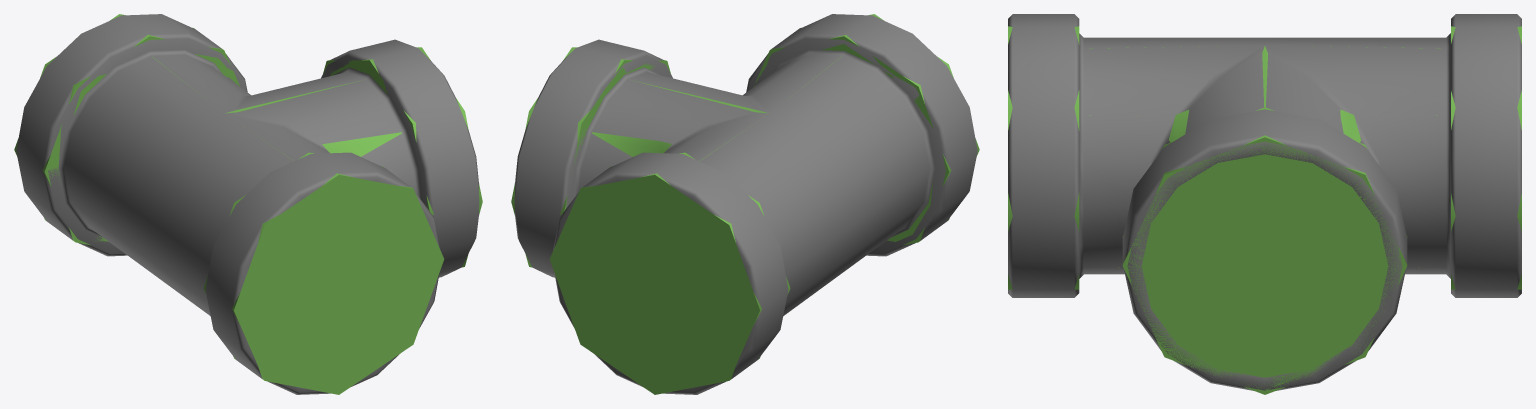
File: PipeSetTjoint_01_Mesh.fbx
3 views of the same model, side by side, from view 1: azimuth 30°, elevation 25°; view 2: azimuth 150°, elevation 25°; view 3: azimuth 270°, elevation 25° (orthographic). The views are drawn at different scales.
Parts seen in each view (by area): view 1: PipeSet_Tjoint_01_LOD0, PipeSet_Tjoint_01_Col; view 2: PipeSet_Tjoint_01_LOD0, PipeSet_Tjoint_01_Col; view 3: PipeSet_Tjoint_01_LOD0, PipeSet_Tjoint_01_Col.
Boxes of the visible parts, x1=… form: PipeSet_Tjoint_01_LOD0: x1=16, y1=14, x2=479, y2=394; PipeSet_Tjoint_01_Col: x1=14, y1=14, x2=482, y2=394; PipeSet_Tjoint_01_LOD0: x1=514, y1=14, x2=977, y2=394; PipeSet_Tjoint_01_Col: x1=511, y1=14, x2=979, y2=394; PipeSet_Tjoint_01_LOD0: x1=1008, y1=14, x2=1521, y2=390; PipeSet_Tjoint_01_Col: x1=1008, y1=26, x2=1521, y2=394.
Size of what is drawn, in the model's own units: 8.5 by 6 by 10.85.
